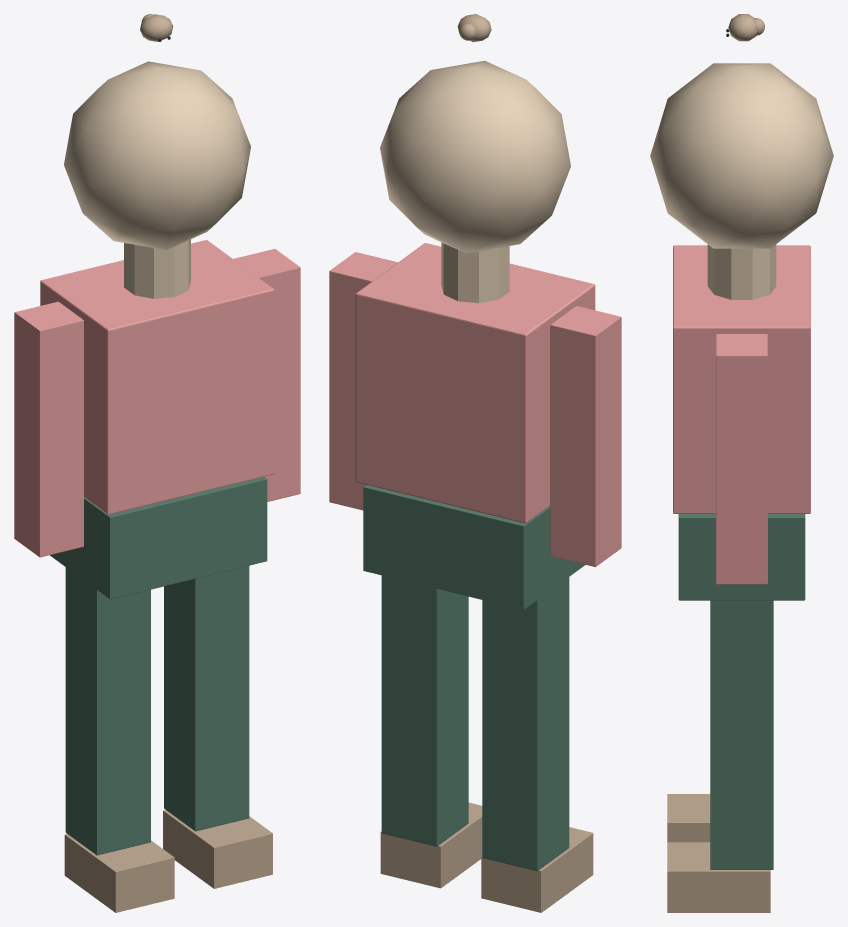
File: truus-tulips.glb
3 renders of one model, left to right at view 1: azimuth 30°, elevation 25°; view 2: azimuth 150°, elevation 25°; view 3: azimuth 270°, elevation 25°, orthographic. The views are drawn at different scales.
Visible parts, largest first — view 1: truus-tulips_Body, truus-tulips_Head, truus-tulips_LeftLeg, truus-tulips_RightLeg, truus-tulips_LeftArm, truus-tulips_Hips, truus-tulips_RightArm, truus-tulips_LeftShoe, truus-tulips_RightShoe, truus-tulips_Neck, truus-tulips_HairTop; view 2: truus-tulips_Body, truus-tulips_Head, truus-tulips_LeftLeg, truus-tulips_RightLeg, truus-tulips_LeftArm, truus-tulips_Hips, truus-tulips_RightArm, truus-tulips_LeftShoe, truus-tulips_RightShoe, truus-tulips_Neck; view 3: truus-tulips_Head, truus-tulips_Body, truus-tulips_RightLeg, truus-tulips_RightArm, truus-tulips_Hips, truus-tulips_RightShoe, truus-tulips_Neck, truus-tulips_LeftShoe, truus-tulips_HairTop.
Boxes of the visible parts, left/top/right/bottom form: truus-tulips_Body: left=40, top=240, right=274, bottom=514; truus-tulips_Head: left=64, top=61, right=250, bottom=250; truus-tulips_LeftLeg: left=65, top=567, right=150, bottom=855; truus-tulips_RightLeg: left=164, top=566, right=249, bottom=831; truus-tulips_LeftArm: left=14, top=301, right=83, bottom=557; truus-tulips_Hips: left=50, top=477, right=267, bottom=599; truus-tulips_RightArm: left=233, top=249, right=300, bottom=501; truus-tulips_LeftShoe: left=64, top=834, right=174, bottom=912; truus-tulips_RightShoe: left=163, top=810, right=272, bottom=888; truus-tulips_Neck: left=124, top=239, right=190, bottom=298; truus-tulips_HairTop: left=140, top=14, right=173, bottom=41; truus-tulips_Body: left=355, top=243, right=595, bottom=523; truus-tulips_Head: left=380, top=60, right=570, bottom=253; truus-tulips_LeftLeg: left=482, top=577, right=569, bottom=871; truus-tulips_RightLeg: left=381, top=575, right=468, bottom=846; truus-tulips_LeftArm: left=550, top=306, right=621, bottom=566; truus-tulips_Hips: left=363, top=485, right=585, bottom=609; truus-tulips_RightArm: left=329, top=252, right=397, bottom=510; truus-tulips_LeftShoe: left=481, top=827, right=593, bottom=912; truus-tulips_RightShoe: left=380, top=802, right=482, bottom=888; truus-tulips_Neck: left=441, top=242, right=509, bottom=303; truus-tulips_Head: left=650, top=63, right=833, bottom=248; truus-tulips_Body: left=673, top=245, right=810, bottom=513; truus-tulips_RightLeg: left=710, top=600, right=773, bottom=869; truus-tulips_RightArm: left=716, top=334, right=767, bottom=584; truus-tulips_Hips: left=678, top=514, right=805, bottom=600; truus-tulips_RightShoe: left=667, top=842, right=770, bottom=912; truus-tulips_Neck: left=707, top=244, right=776, bottom=299; truus-tulips_LeftShoe: left=667, top=794, right=710, bottom=842; truus-tulips_HairTop: left=728, top=14, right=756, bottom=41.
Size of the model in its own units: 0.53 by 1.65 by 0.32.
